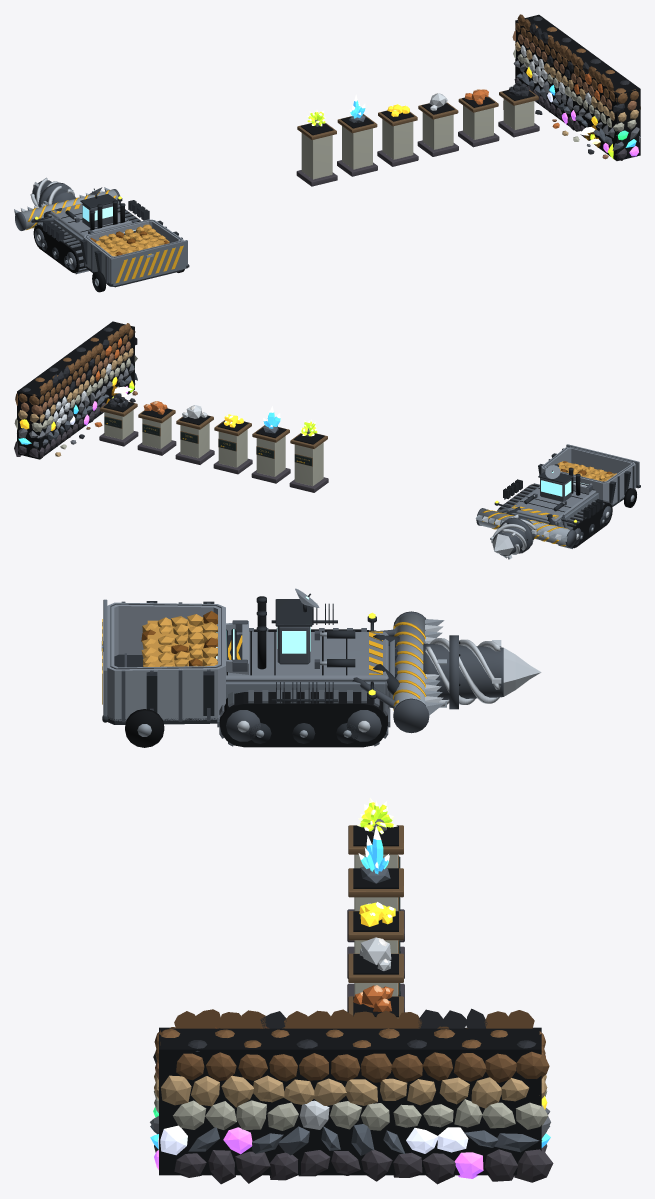
The model's file is adventure-island.glb.
The picture shows the model from 3 angles, top to bottom: view 1: azimuth 30°, elevation 25°; view 2: azimuth 150°, elevation 25°; view 3: azimuth 270°, elevation 25°; orthographic projection. The views are drawn at different scales.
Visible parts, largest first — view 1: Claim matte, Claim metal, Claim satin; view 2: Claim matte, Claim metal, Claim satin; view 3: Claim matte, Claim metal, Claim platinum, Claim satin, Claim voidstone.
Boxes of the visible parts, x1,y1,x2,y2 form: Claim matte: [33, 14, 640, 292]; Claim metal: [14, 45, 602, 287]; Claim satin: [26, 190, 183, 283]; Claim matte: [14, 321, 636, 550]; Claim metal: [45, 338, 640, 559]; Claim satin: [106, 423, 567, 546]; Claim matte: [125, 602, 553, 1184]; Claim metal: [101, 588, 541, 1129]; Claim platinum: [157, 1125, 468, 1155]; Claim satin: [102, 619, 427, 710]; Claim voidstone: [154, 1127, 483, 1178].
Bounding box in the file's own units: 11.8 × 1.66 × 4.37.
